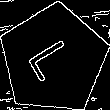L_NE: (24, 33, 82, 85)
